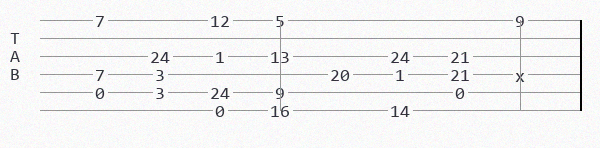0: (95, 85, 109, 100), (215, 103, 229, 118), (455, 85, 469, 100)
1: (215, 49, 229, 64), (395, 67, 409, 82)
12: (210, 13, 234, 28)
13: (270, 49, 294, 64)
14: (390, 103, 414, 118)
16: (270, 103, 294, 118)
20: (330, 67, 354, 82)
21: (450, 67, 474, 82), (450, 49, 474, 64)
24: (150, 49, 174, 64), (210, 85, 234, 100), (390, 49, 414, 64)
3: (155, 85, 169, 100), (155, 67, 169, 82)
5: (275, 13, 289, 28)
7: (95, 13, 109, 28), (95, 67, 109, 82)
9: (275, 85, 289, 100), (515, 13, 529, 28)
x: (515, 68, 529, 81)
